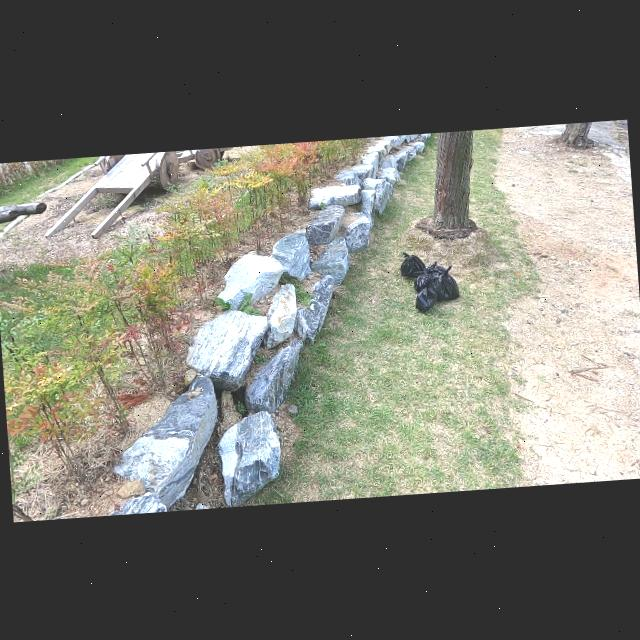trash: (436, 266, 459, 302), (398, 250, 427, 278), (414, 285, 438, 312), (412, 268, 436, 292), (424, 260, 448, 282)
